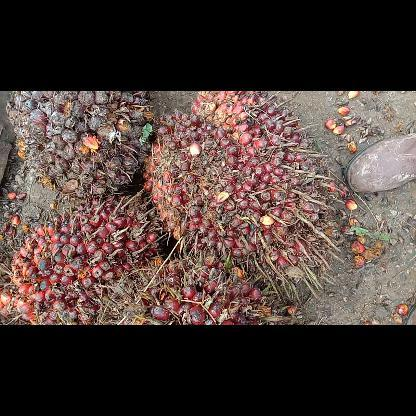Kurang masak: (3, 91, 157, 201)
TBS masak: (141, 92, 339, 296), (0, 192, 165, 324), (119, 250, 276, 324)
